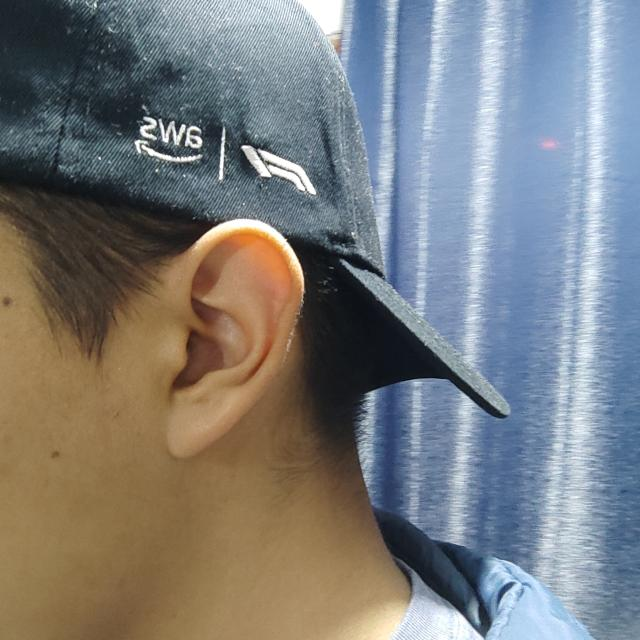ear: (140, 220, 304, 459)
